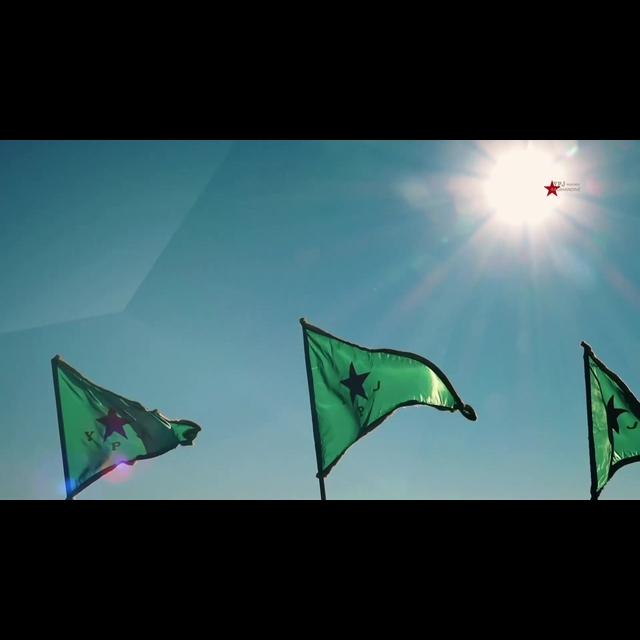YPJ: (319, 354, 395, 422), (68, 399, 157, 451)
